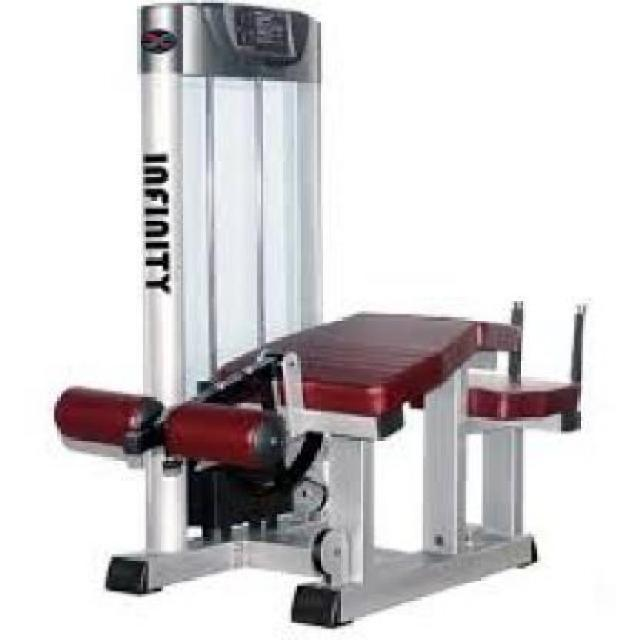reg curl machine: (52, 0, 590, 634)
